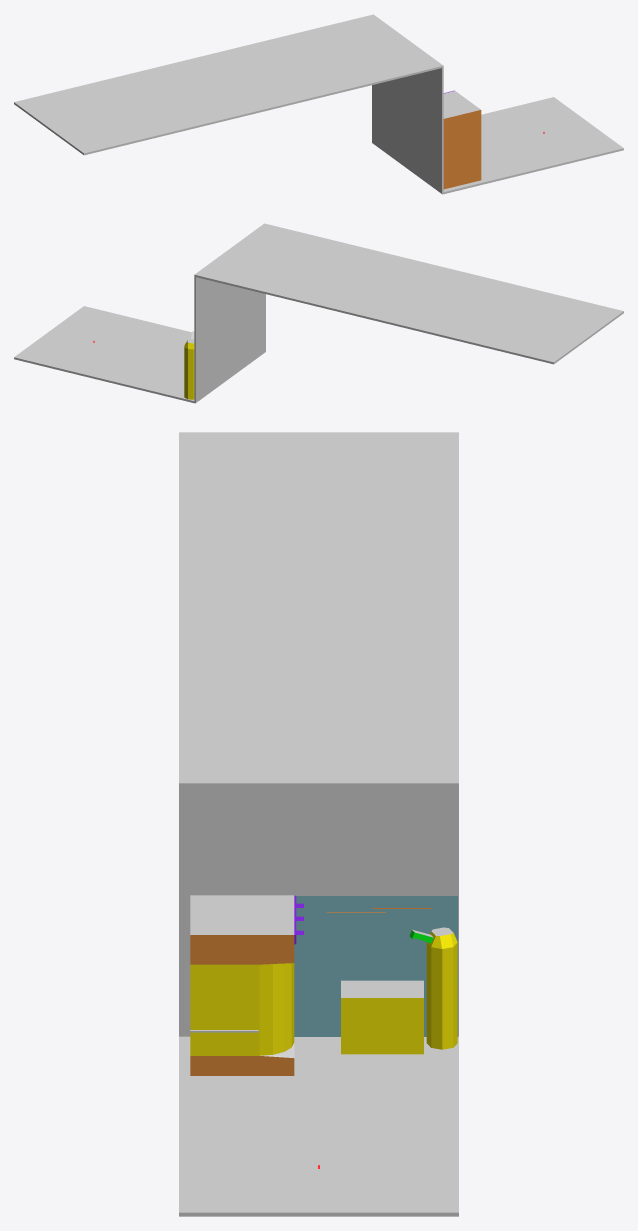
File: test map.fbx
The picture shows the model from 3 angles, top to bottom: view 1: azimuth 30°, elevation 25°; view 2: azimuth 150°, elevation 25°; view 3: azimuth 270°, elevation 25°; orthographic projection. The views are drawn at different scales.
Parts seen in each view (by area): view 1: Plane.001, Plane, Cube.001; view 2: Plane.001, Plane, Cylinder; view 3: Plane.001, Plane, Cube.001, Plane.002, Cube.002, Cylinder.
Part boxes in pixels (x1,y1,x2,y2): Plane.001: (14,14,443,193); Plane: (442,97,623,194); Cube.001: (443,91,481,189); Plane.001: (194,223,623,402); Plane: (14,306,195,403); Cylinder: (184,331,194,399); Plane.001: (179,432,458,1036); Plane: (179,1036,458,1216); Cube.001: (190,895,294,1075); Plane.002: (294,896,457,1036); Cube.002: (341,980,423,1054); Cylinder: (409,927,457,1049).
Bounding box in the file's own units: 60000 × 13654 × 13486.
